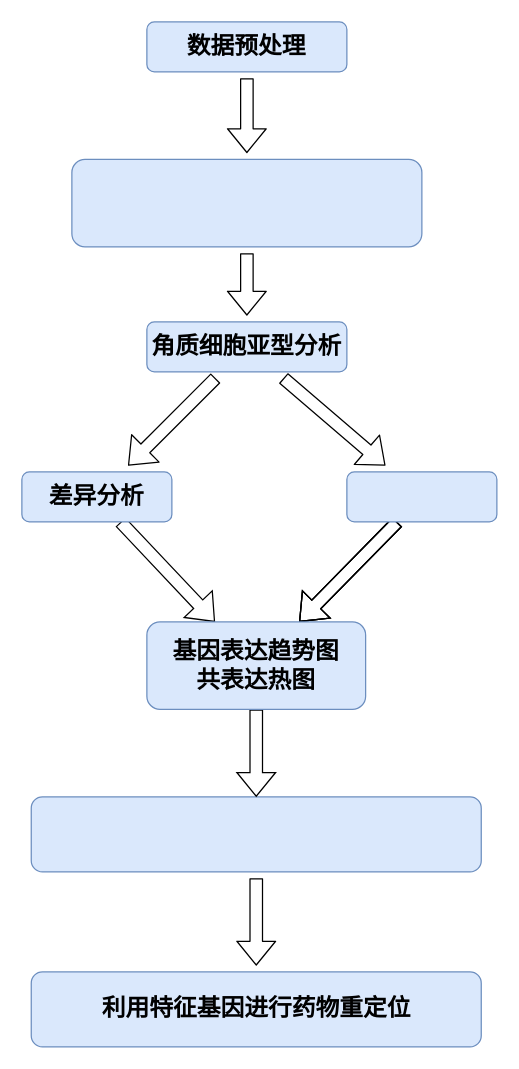
This 519x1069 diagram has some shape labels left out. Here are the shapes that lost their labels. From the top down, the centre of each, then its label:
At (246,202): "降维、细胞注释 提取角质细胞重新聚类".
At (421,496): "拟时序分析".
At (255,834): "搭建角质细胞亚型与免疫细胞互作网络".
